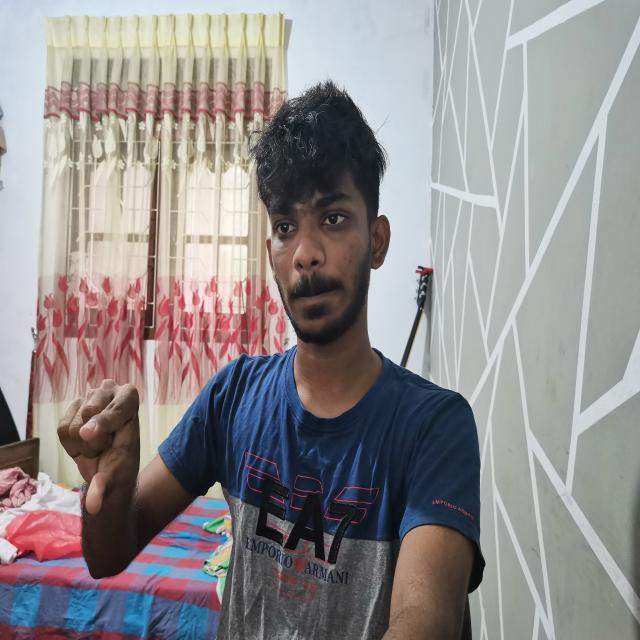No: (49, 378, 147, 523)
